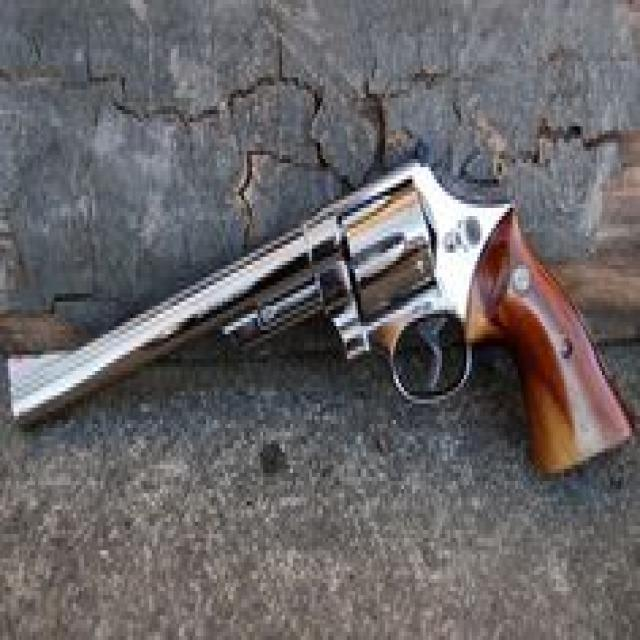revolver: (5, 80, 640, 529)
